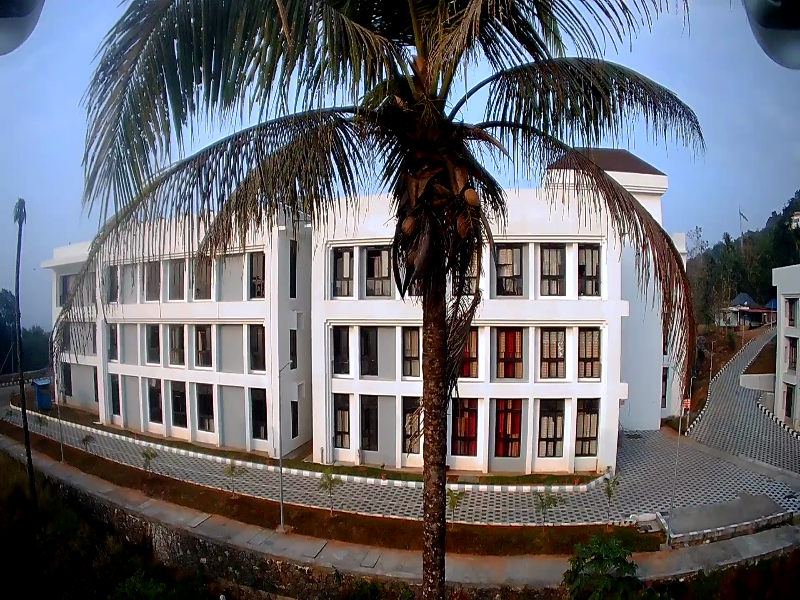coconut: (467, 185, 483, 209), (455, 212, 469, 239), (400, 218, 415, 234)
